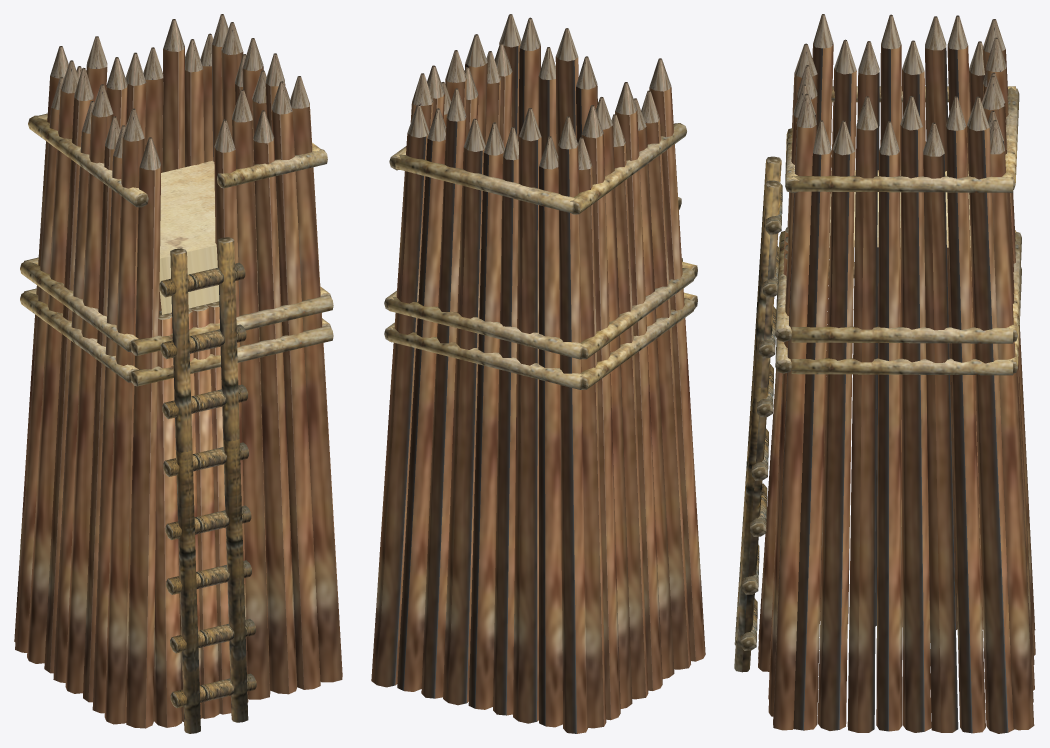
The model's file is stone_tower.dae.
3 renders of one model, left to right at view 1: azimuth 30°, elevation 25°; view 2: azimuth 150°, elevation 25°; view 3: azimuth 270°, elevation 25°, orthographic. The views are drawn at different scales.
Visible parts, largest first — view 1: stone_tower; view 2: stone_tower; view 3: stone_tower.
Boxes of the visible parts, bbox=[...] form: stone_tower: bbox=[14, 14, 342, 733]; stone_tower: bbox=[371, 14, 705, 733]; stone_tower: bbox=[734, 14, 1035, 733].
Bounding box in the file's own units: 6.41 × 6.98 × 15.83.
